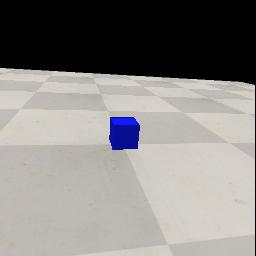box: (109, 117, 140, 150)
